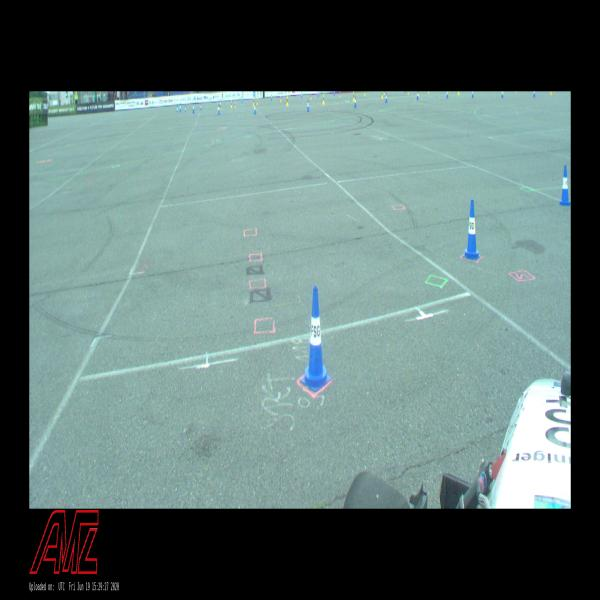blue_cone: (301, 286, 331, 392), (463, 200, 480, 260), (560, 166, 570, 205), (354, 96, 357, 107), (307, 99, 309, 112), (254, 103, 256, 114), (386, 93, 388, 103), (218, 106, 220, 114), (472, 91, 474, 98), (200, 104, 202, 110), (446, 92, 448, 98), (534, 91, 536, 97), (193, 104, 194, 113), (180, 104, 181, 112), (301, 92, 302, 99), (177, 106, 178, 112), (185, 106, 186, 112), (271, 94, 272, 100), (334, 91, 335, 96), (318, 92, 318, 97)
yellow_cone: (322, 94, 325, 104), (286, 96, 288, 106), (253, 97, 255, 106), (234, 101, 236, 108), (280, 96, 282, 102), (381, 92, 383, 98), (310, 94, 312, 99), (339, 92, 341, 97), (353, 92, 354, 101), (231, 100, 232, 108), (257, 98, 258, 105)
